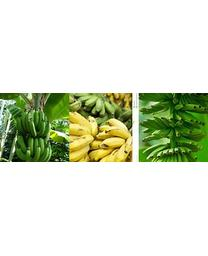banana: (69, 93, 133, 162), (13, 107, 53, 162)
